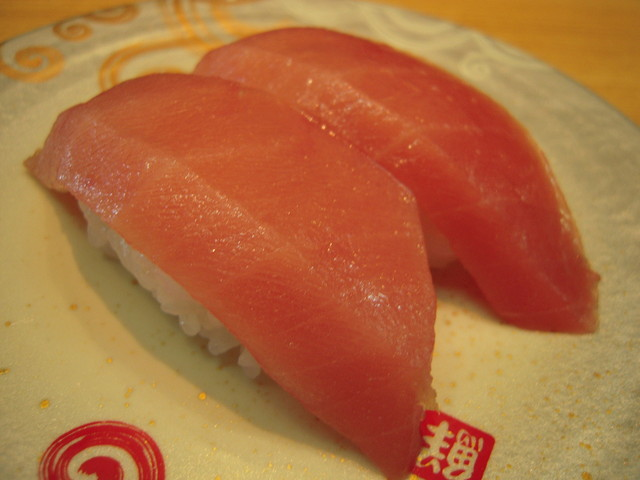medium_fatty_tuna: (42, 68, 429, 462)
